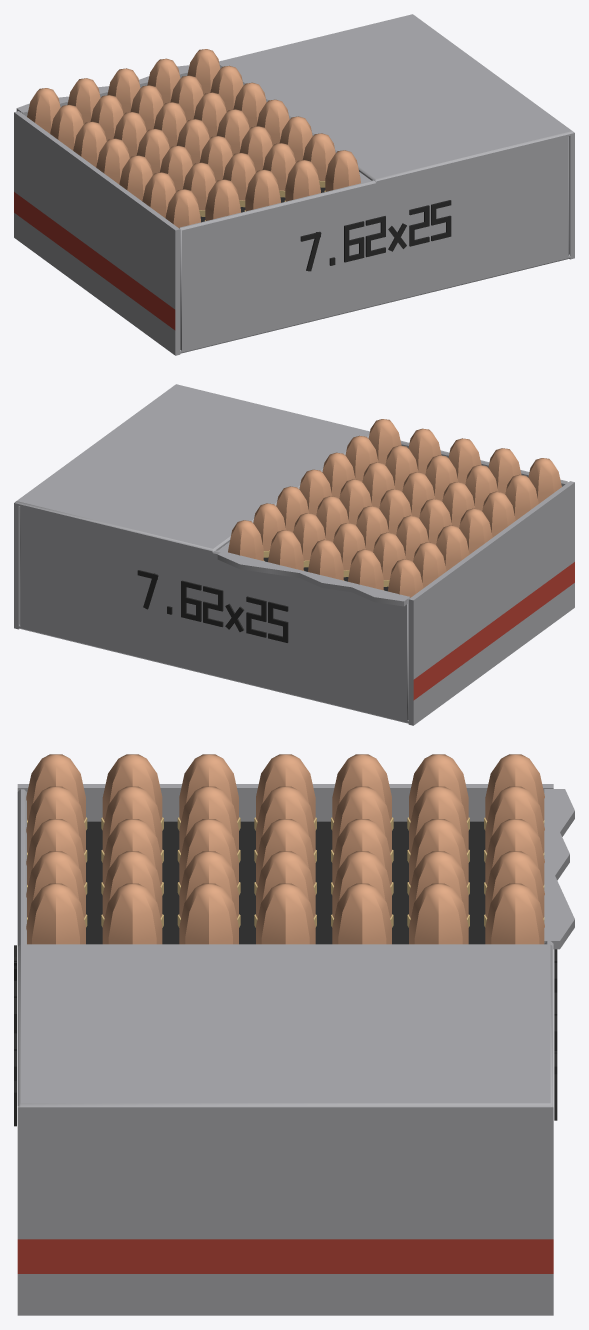
Rendered from ammo_762x25.glb.
3 views of the same model, one above another, from view 1: azimuth 30°, elevation 25°; view 2: azimuth 150°, elevation 25°; view 3: azimuth 270°, elevation 25° (orthographic). The views are drawn at different scales.
Parts seen in each view (by area): view 1: body; view 2: body; view 3: body.
Part boxes in pixels (x1,y1,x2,y2): body: [14, 14, 574, 355]; body: [14, 384, 574, 725]; body: [14, 754, 574, 1315].
Size of the model in its own units: 0.1 by 0.0365 by 0.0733.
